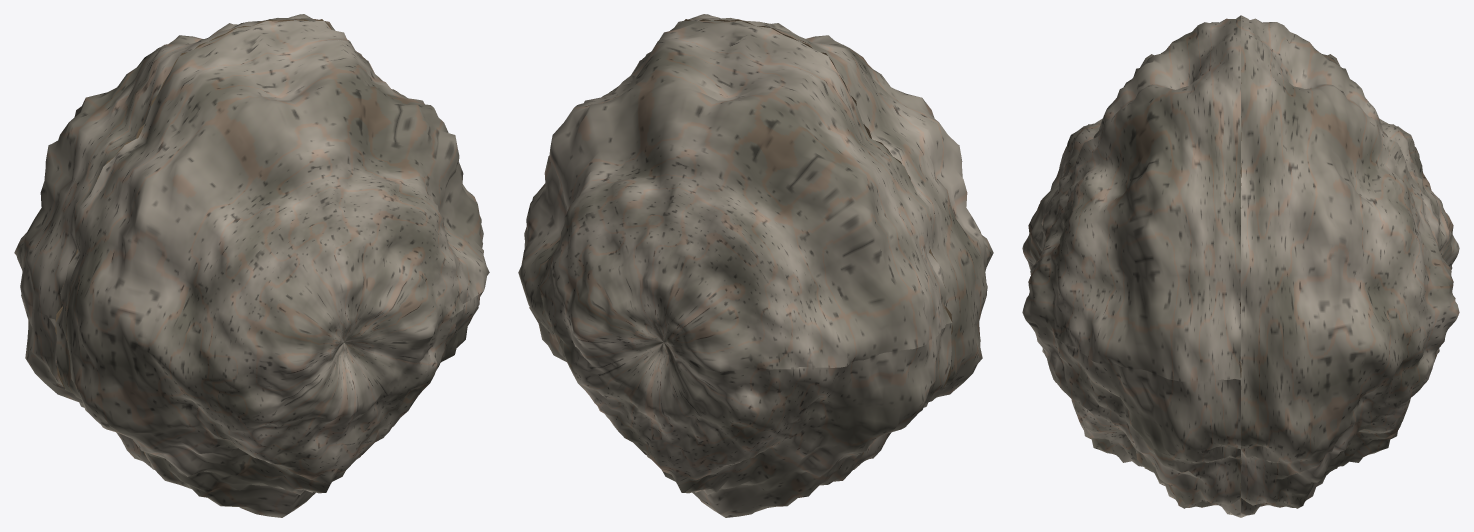
Rendered from white-druse-study-v1.glb.
3 views of the same model, side by side, from view 1: azimuth 30°, elevation 25°; view 2: azimuth 150°, elevation 25°; view 3: azimuth 270°, elevation 25° (orthographic).
Visible parts, largest first — view 1: Closed_front, Closed_back; view 2: Closed_back, Closed_front; view 3: Closed_front, Closed_back.
Boxes of the visible parts, <box> form: Closed_front: <box>55,20,489,517</box>; Closed_back: <box>14,14,383,469</box>; Closed_back: <box>518,20,952,517</box>; Closed_front: <box>613,14,993,469</box>; Closed_front: <box>1022,15,1240,517</box>; Closed_back: <box>1241,15,1459,517</box>.
Bounding box in the file's own units: 3.02 × 3.48 × 2.86.
Materials: 8 (3 with a texture image).
